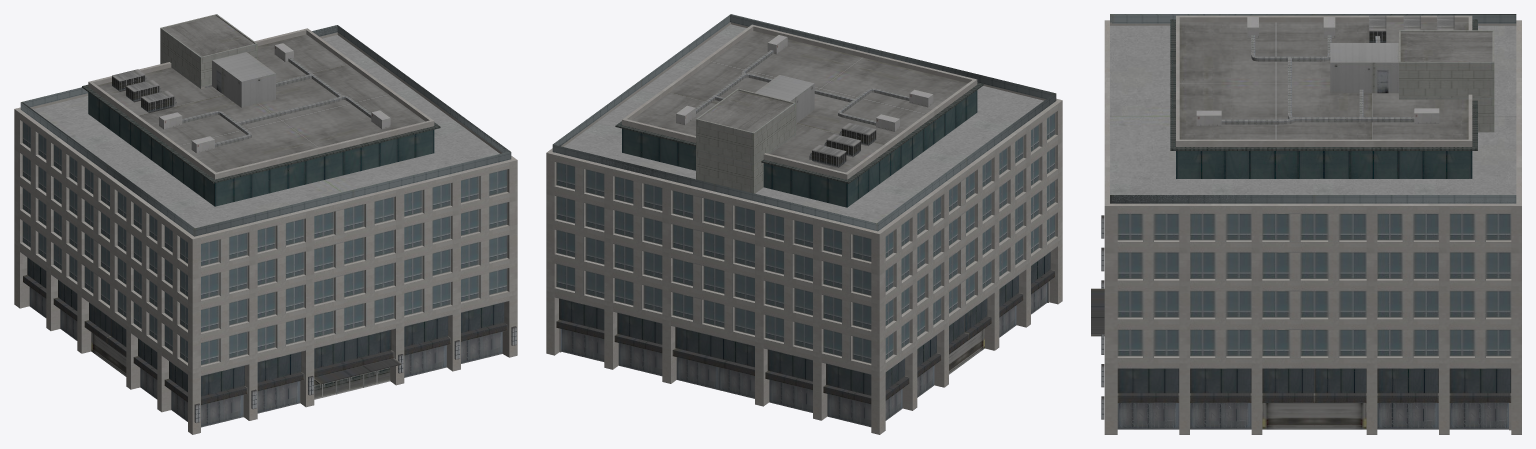
Rendered from building-b.glb.
3 renders of one model, left to right at view 1: azimuth 30°, elevation 25°; view 2: azimuth 150°, elevation 25°; view 3: azimuth 270°, elevation 25°, orthographic. The views are drawn at different scales.
Parts seen in each view (by area): view 1: AIT01W2W3; view 2: AIT01W2W3; view 3: AIT01W2W3.
Part boxes in pixels (box(x1,y1,x2,y2)): AIT01W2W3: box(14, 14, 517, 434); AIT01W2W3: box(546, 14, 1062, 434); AIT01W2W3: box(1091, 14, 1521, 434).
Bounding box in the file's own units: 2 × 1.48 × 1.96.
1 material, 1 textured.
